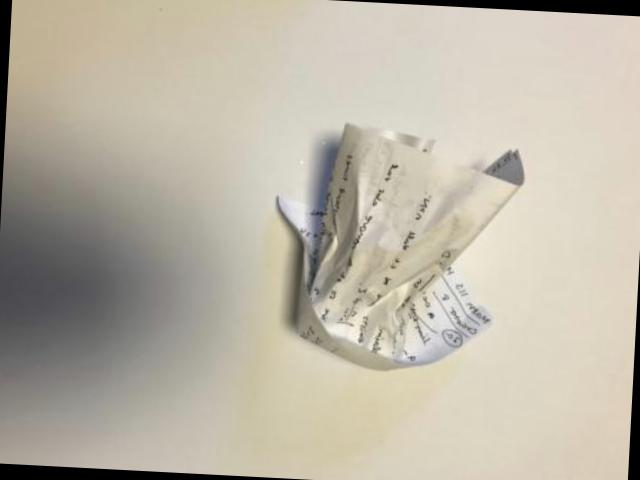cardboard paper: (281, 123, 525, 367)
